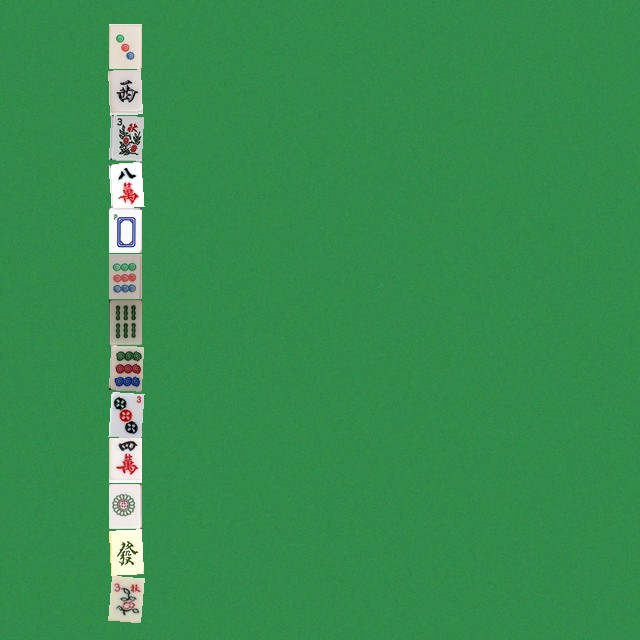tile: (108, 23, 141, 68), (108, 69, 141, 114), (108, 115, 141, 160), (108, 161, 141, 206), (108, 207, 141, 252), (108, 253, 141, 298), (108, 299, 141, 344), (108, 345, 141, 390), (108, 391, 141, 436), (108, 437, 141, 482), (108, 483, 141, 528), (108, 529, 141, 574), (108, 575, 141, 620)
